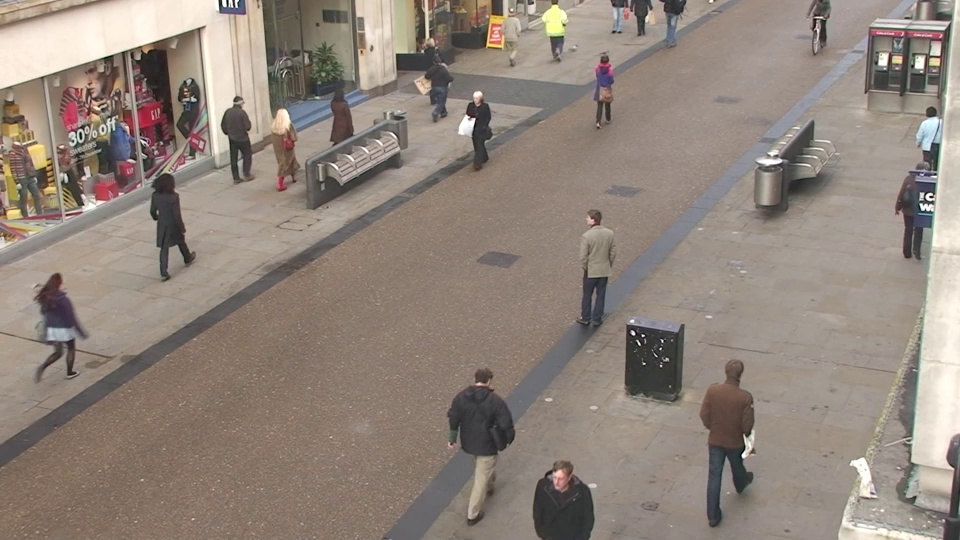pedestrian: (704, 350, 759, 507), (33, 265, 94, 398), (460, 355, 511, 511), (530, 451, 587, 540), (148, 169, 193, 277), (576, 203, 614, 323), (904, 102, 949, 198), (268, 104, 302, 195), (223, 91, 258, 177), (324, 85, 356, 171), (464, 87, 495, 175), (424, 52, 451, 129), (592, 51, 617, 129), (416, 36, 442, 108), (498, 5, 521, 69)
